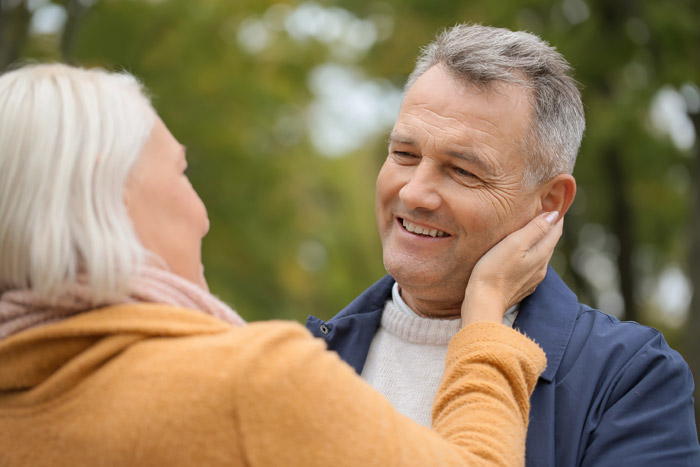female: (1, 64, 375, 467)
male: (294, 20, 700, 467)
